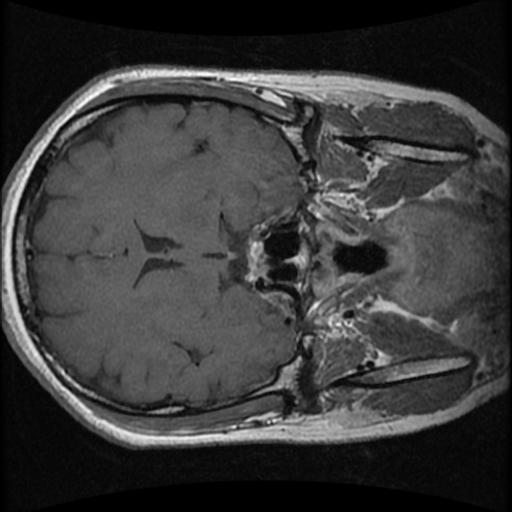pituitary tumour: (244, 224, 271, 286)
